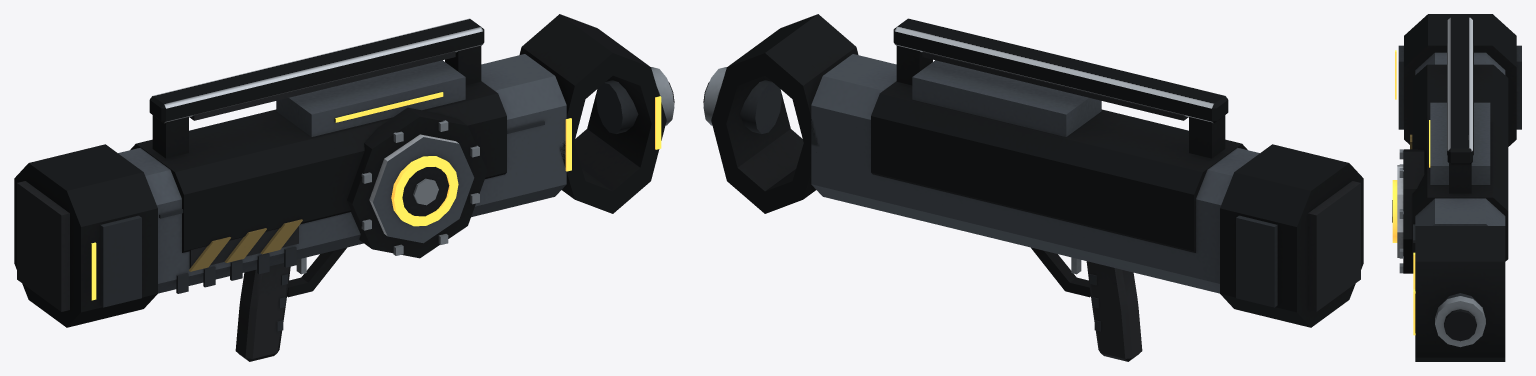
The model's file is opr_wpn_breach_charge_b.glb.
3 views of the same model, side by side, from view 1: azimuth 30°, elevation 25°; view 2: azimuth 150°, elevation 25°; view 3: azimuth 270°, elevation 25° (orthographic). The views are drawn at different scales.
Visible parts, largest first — view 1: mesh_intact; view 2: mesh_intact; view 3: mesh_intact.
Part boxes in pixels (box(x1,y1,x2,y2)): mesh_intact: box(14, 14, 674, 361); mesh_intact: box(703, 14, 1363, 361); mesh_intact: box(1392, 14, 1521, 361).
Bounding box in the file's own units: 0.813 × 0.347 × 0.173.
Materials: 1 (1 with a texture image).
